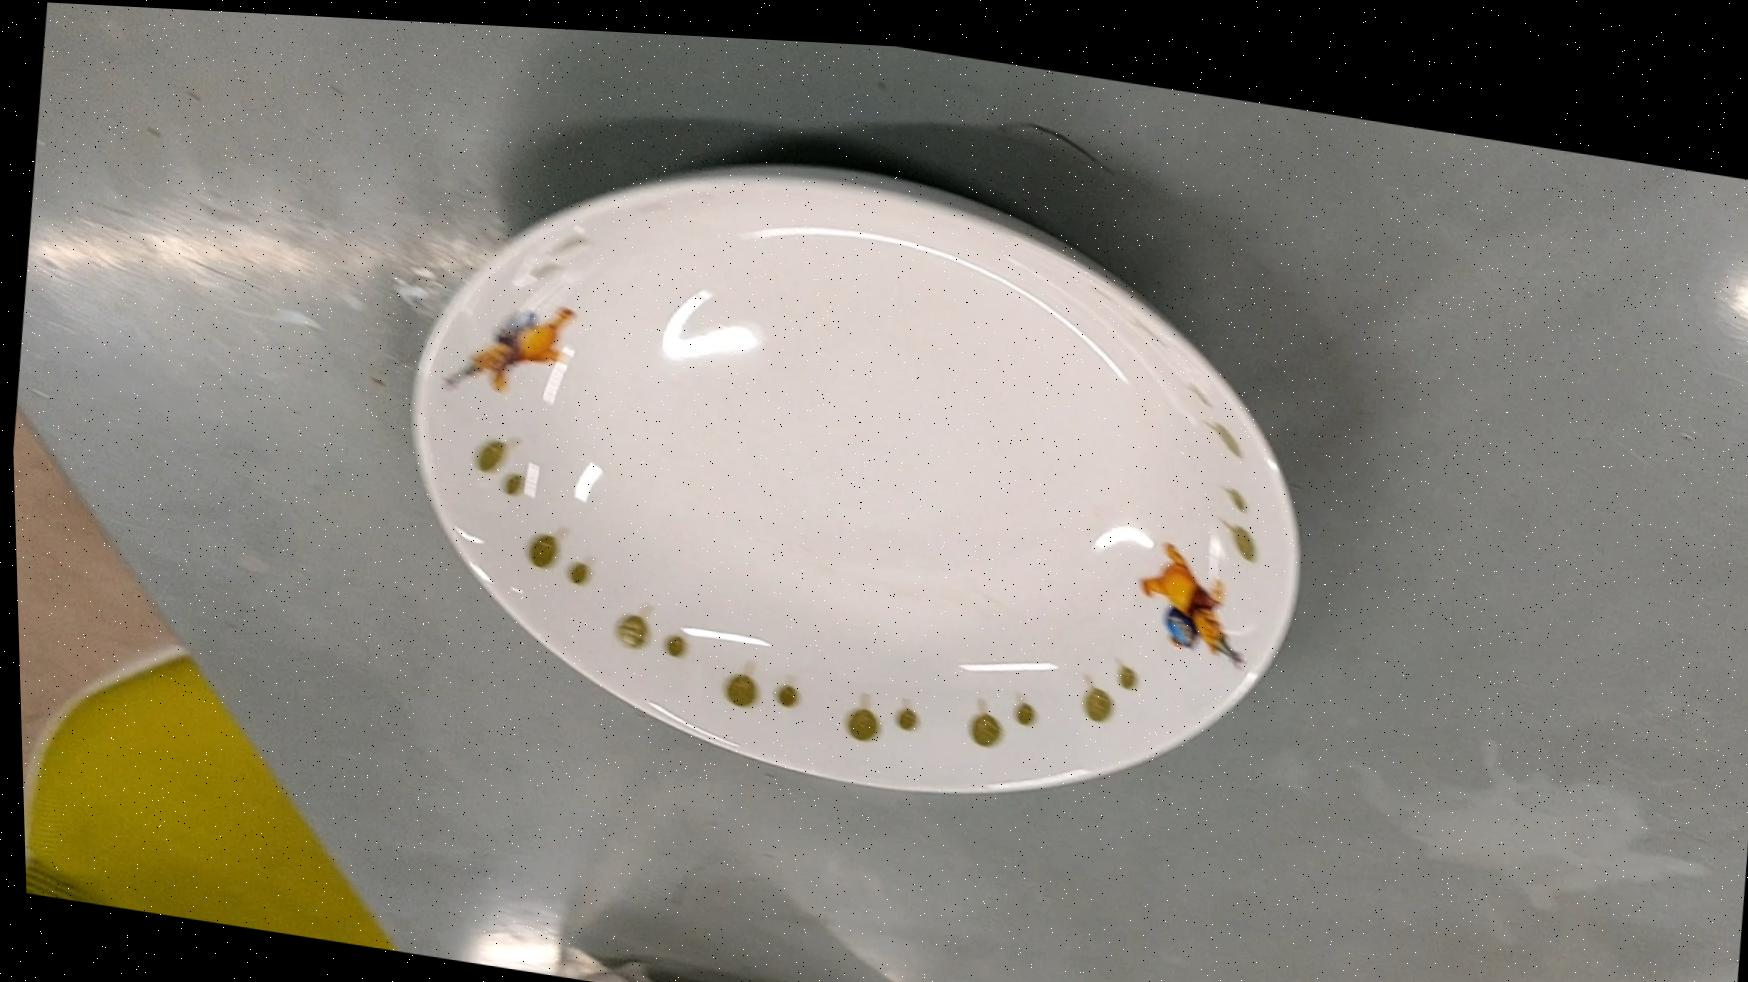plate: (382, 94, 1347, 844)
